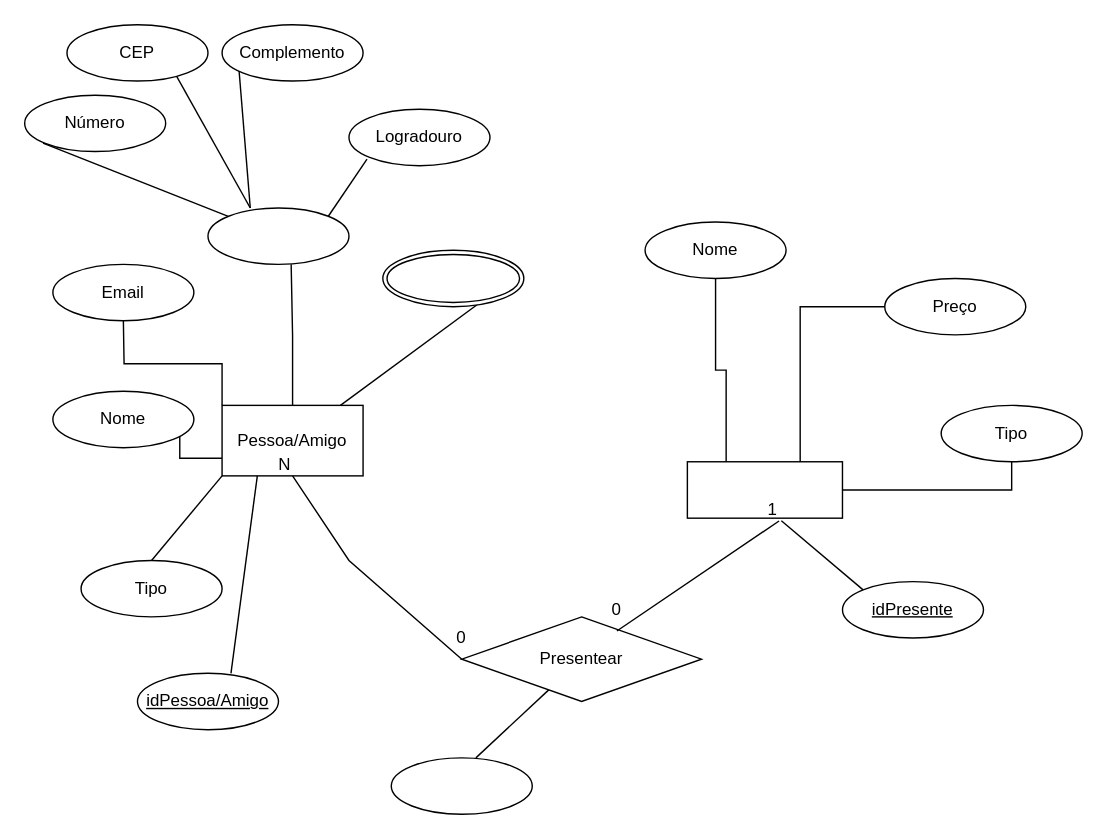
The diagram is 1107 pixels wide and 839 high, and some of its shapes have lost their labels. Here are the shapes that lost their labels. From the top down, the centre of each, then its label:
At [278,235]: "Endereço".
At [452,278]: "Telefones".
At [764,489]: "Presente".
At [461,785]: "Data".
